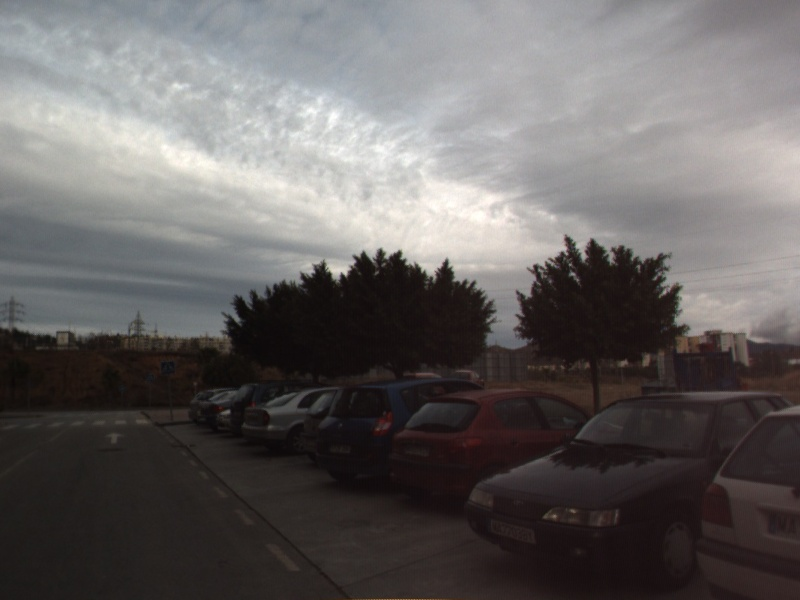STRAIGHT: (103, 430, 127, 446)
